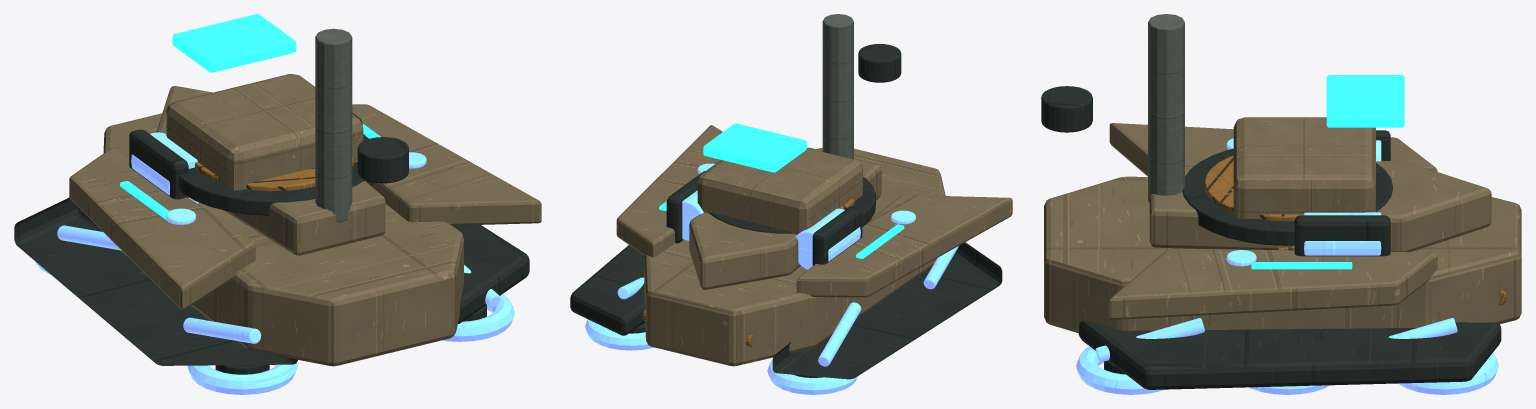
The model's file is lumen_tank.glb.
3 renders of one model, left to right at view 1: azimuth 30°, elevation 25°; view 2: azimuth 150°, elevation 25°; view 3: azimuth 270°, elevation 25°, orthographic. The views are drawn at different scales.
Parts seen in each view (by area): view 1: Faction detail · Vehicle / armor_light.009, Prisma · swept faceted hover hull, Faction detail · Vehicle / dark.009, Raised armored traversing turret, Faction detail · Vehicle / energy.003, Long-bore main cannon, Faction detail · Vehicle / dark.001, TeamColor, Indexed azimuth bearing, TeamColor flank details; view 2: Faction detail · Vehicle / armor_light.009, Prisma · swept faceted hover hull, Faction detail · Vehicle / dark.009, Raised armored traversing turret, Faction detail · Vehicle / energy.003, Long-bore main cannon, TeamColor, Faction detail · Vehicle / dark.001, TeamColor flank details; view 3: Faction detail · Vehicle / armor_light.009, Prisma · swept faceted hover hull, Faction detail · Vehicle / dark.009, Raised armored traversing turret, Faction detail · Vehicle / energy.003, Long-bore main cannon, Faction detail · Vehicle / dark.001, TeamColor, Indexed azimuth bearing, TeamColor flank details.
Boxes of the visible parts, box(x1,y1,x2,y2) form: Faction detail · Vehicle / armor_light.009: box(69, 86, 541, 309); Prisma · swept faceted hover hull: box(103, 113, 463, 366); Faction detail · Vehicle / dark.009: box(14, 113, 529, 374); Raised armored traversing turret: box(166, 74, 363, 190); Faction detail · Vehicle / energy.003: box(35, 132, 514, 394); Long-bore main cannon: box(315, 28, 352, 222); Faction detail · Vehicle / dark.001: box(179, 134, 408, 215); TeamColor: box(172, 14, 296, 72); Indexed azimuth bearing: box(195, 158, 354, 191); TeamColor flank details: box(120, 124, 380, 220); Faction detail · Vehicle / armor_light.009: box(616, 125, 1012, 297); Prisma · swept faceted hover hull: box(644, 148, 945, 366); Faction detail · Vehicle / dark.009: box(570, 171, 1002, 379); Raised armored traversing turret: box(697, 148, 862, 234); Faction detail · Vehicle / energy.003: box(585, 163, 958, 394); Long-bore main cannon: box(822, 14, 853, 159); TeamColor: box(703, 123, 806, 172); Faction detail · Vehicle / dark.001: box(709, 44, 901, 233); TeamColor flank details: box(659, 201, 904, 258); Faction detail · Vehicle / armor_light.009: box(1109, 123, 1491, 319); Prisma · swept faceted hover hull: box(1044, 176, 1521, 333); Faction detail · Vehicle / dark.009: box(1078, 130, 1501, 389); Raised armored traversing turret: box(1233, 117, 1375, 218); Faction detail · Vehicle / energy.003: box(1076, 138, 1498, 394); Long-bore main cannon: box(1148, 14, 1184, 202); Faction detail · Vehicle / dark.001: box(1041, 86, 1393, 245); TeamColor: box(1326, 75, 1404, 127); Indexed azimuth bearing: box(1204, 155, 1303, 221); TeamColor flank details: box(1251, 262, 1352, 269).
Size of the model in its own units: 3.01 by 2.37 by 3.35.
9 materials, 9 textured.
